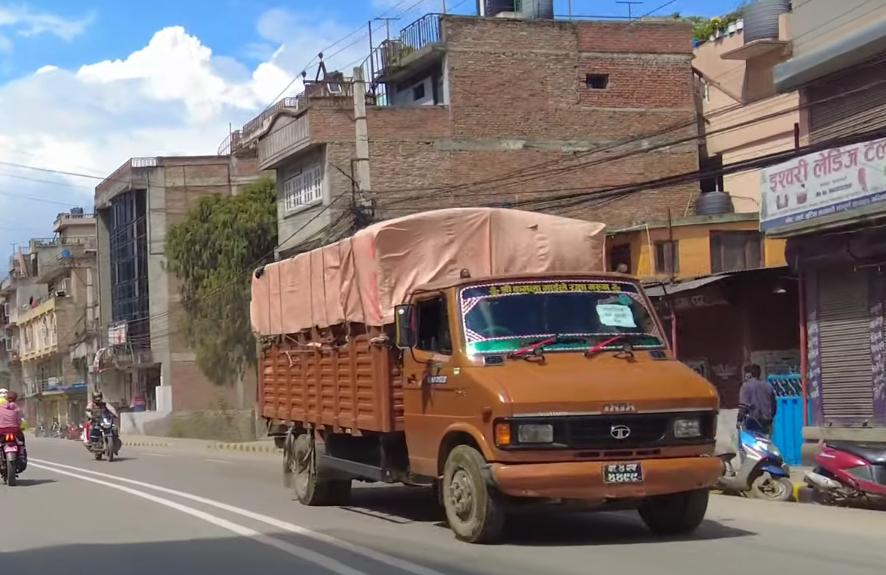bike: (0, 385, 33, 494), (81, 402, 126, 470)
mini_truck: (242, 197, 732, 551)
scooter: (704, 414, 787, 505), (809, 429, 886, 519)
